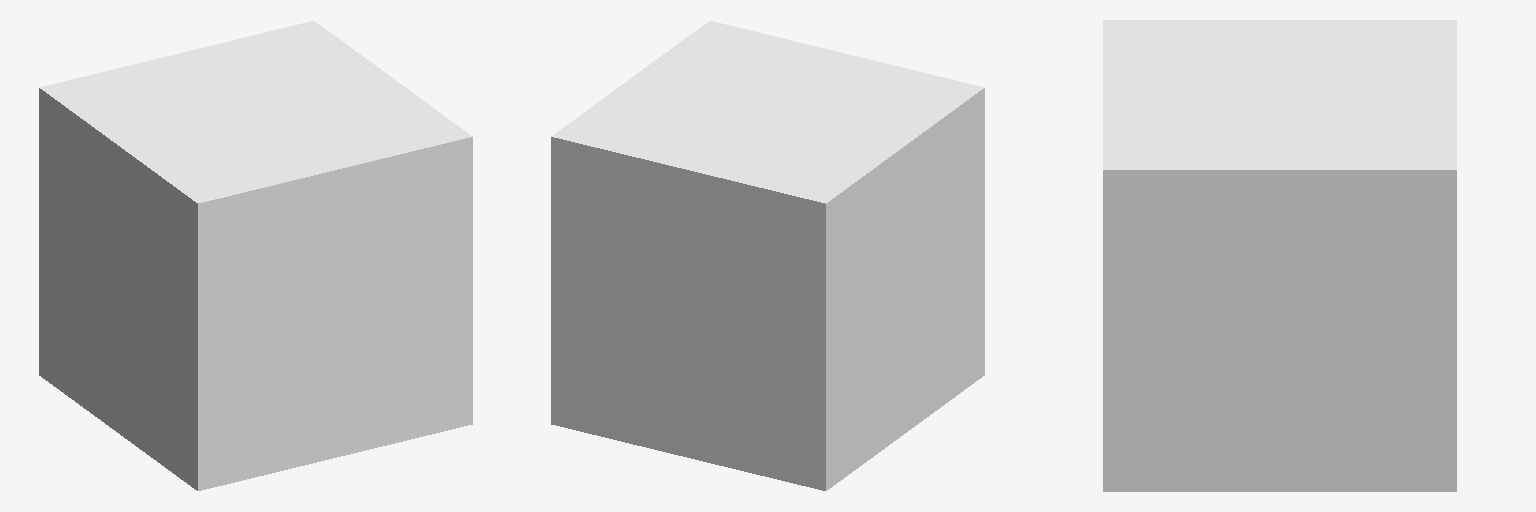
URDF robot description (Cube0.1x0.1):
<?xml version="1.0" ?>
<robot name="Cube0.1x0.1">
  <link name="Cube0.1x0.1">
    <contact>
      <lateral_friction value="1.0"/>
      <rolling_friction value="1.0"/>
      <inertia_scaling value="3.0"/>
      <contact_cdm value="0.0"/>
      <contact_erp value="1.0"/>
    </contact>
    <inertial>
      <origin rpy="0 0 0" xyz="0 0 0"/>
      <mass value="1.0"/>
      <inertia ixx="0" ixy="0" ixz="0" iyy="0" iyz="0" izz="0"/>
    </inertial>
    <visual>
      <origin rpy="0 0 0" xyz="0 0 0"/>
      <geometry>
        <mesh filename="Cube0.1x0.1_vis.obj" scale="1.0 1.0 1.0"/>
      </geometry>
      <material name="blockmat">
        <color rgba="1.0 1.0 1.0 1.0"/>
      </material>
    </visual>
    <collision>
      <origin rpy="0 0 0" xyz="0 0 0"/>
      <geometry>
        <mesh filename="Cube0.1x0.1_col.obj" scale="1.0 1.0 1.0"/>
      </geometry>
    </collision>
  </link>
</robot>

--- What the picture shows (computed from the rendered views, not written in the file) ---
The picture shows the robot from 3 angles, left to right: view 1: azimuth 30°, elevation 25°; view 2: azimuth 150°, elevation 25°; view 3: azimuth 270°, elevation 25°; orthographic projection.
Robot: Cube0.1x0.1 — 1 links, 0 joints (none); root link Cube0.1x0.1; default pose: all joints at 0.
Visible links, largest first — view 1: Cube0.1x0.1; view 2: Cube0.1x0.1; view 3: Cube0.1x0.1.
Boxes of the visible links, x1=… form: Cube0.1x0.1: x1=39, y1=21, x2=472, y2=490; Cube0.1x0.1: x1=551, y1=21, x2=984, y2=490; Cube0.1x0.1: x1=1103, y1=20, x2=1456, y2=491.
Bounding box of the posed robot: 0.0001 × 0.0001 × 0.0001 m (x, y, z).
Meshes: 1 distinct files referenced, 1 mesh visuals loaded (1 OBJ).
